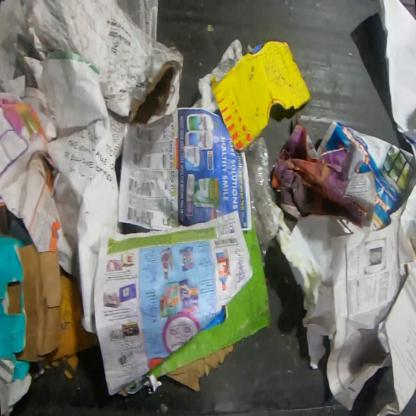cardboard: (142, 216, 270, 393), (25, 0, 186, 126), (210, 41, 312, 152), (0, 231, 64, 384), (42, 264, 99, 380)
soft_plastic: (244, 135, 280, 271)
